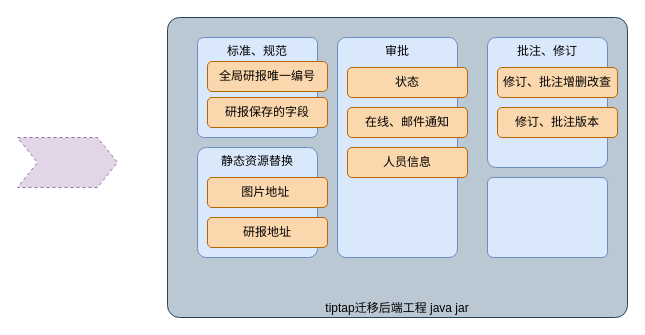
The diagram is 645 pixels wide and 335 high, and some of its shapes have lost their labels. The centre of each missing label's shape, as x and y in pixels:
EAIP传输: the point at 67,162
指标算子库: the point at 547,217
